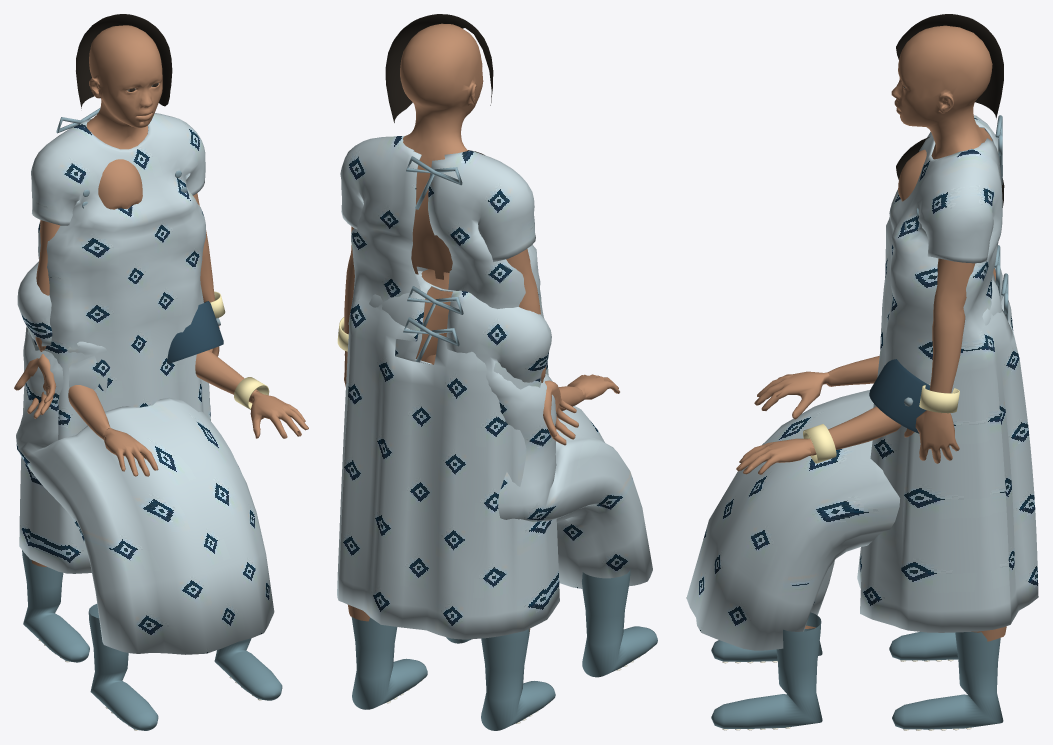
Rendered from patient-01-hero.glb.
The picture shows the model from 3 angles, left to right: view 1: azimuth 30°, elevation 25°; view 2: azimuth 150°, elevation 25°; view 3: azimuth 270°, elevation 25°; orthographic projection. The views are drawn at different scales.
Parts seen in each view (by area): view 1: head.003, head.001, Blood pressure cuff.001, ID wristband.003; view 2: head.001, head.003; view 3: head.001, head.003, Blood pressure cuff.001, ID wristband.001, ID wristband.003.
Part boxes in pixels (x1,y1,x2,y2): head.003: (16,159,308,730); head.001: (14,14,219,662); Blood pressure cuff.001: (167,301,223,363); ID wristband.003: (234,377,269,409); head.001: (337,14,578,730); head.003: (369,150,657,677); head.001: (857,14,1038,730); head.003: (686,137,1004,730); Blood pressure cuff.001: (869,359,930,433); ID wristband.001: (919,384,959,413); ID wristband.003: (803,424,836,463).
Bounding box in the file's own units: 0.4629 × 1.34 × 0.6246.
Materials: 9 (1 with a texture image).
